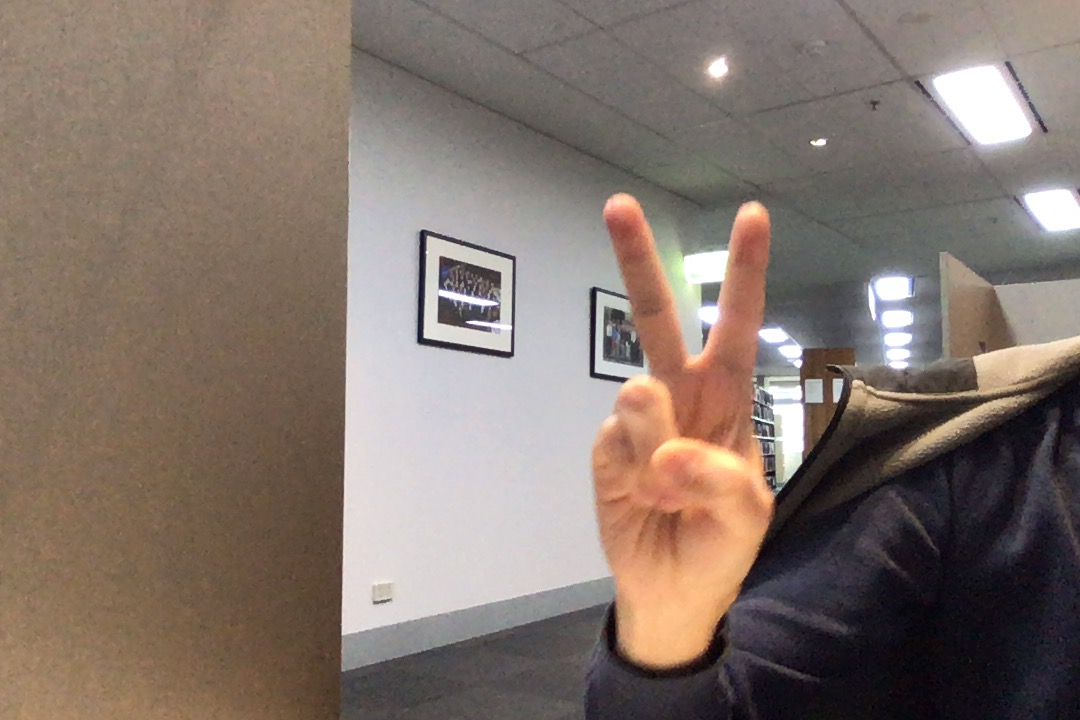peacesign: (554, 178, 796, 636)
